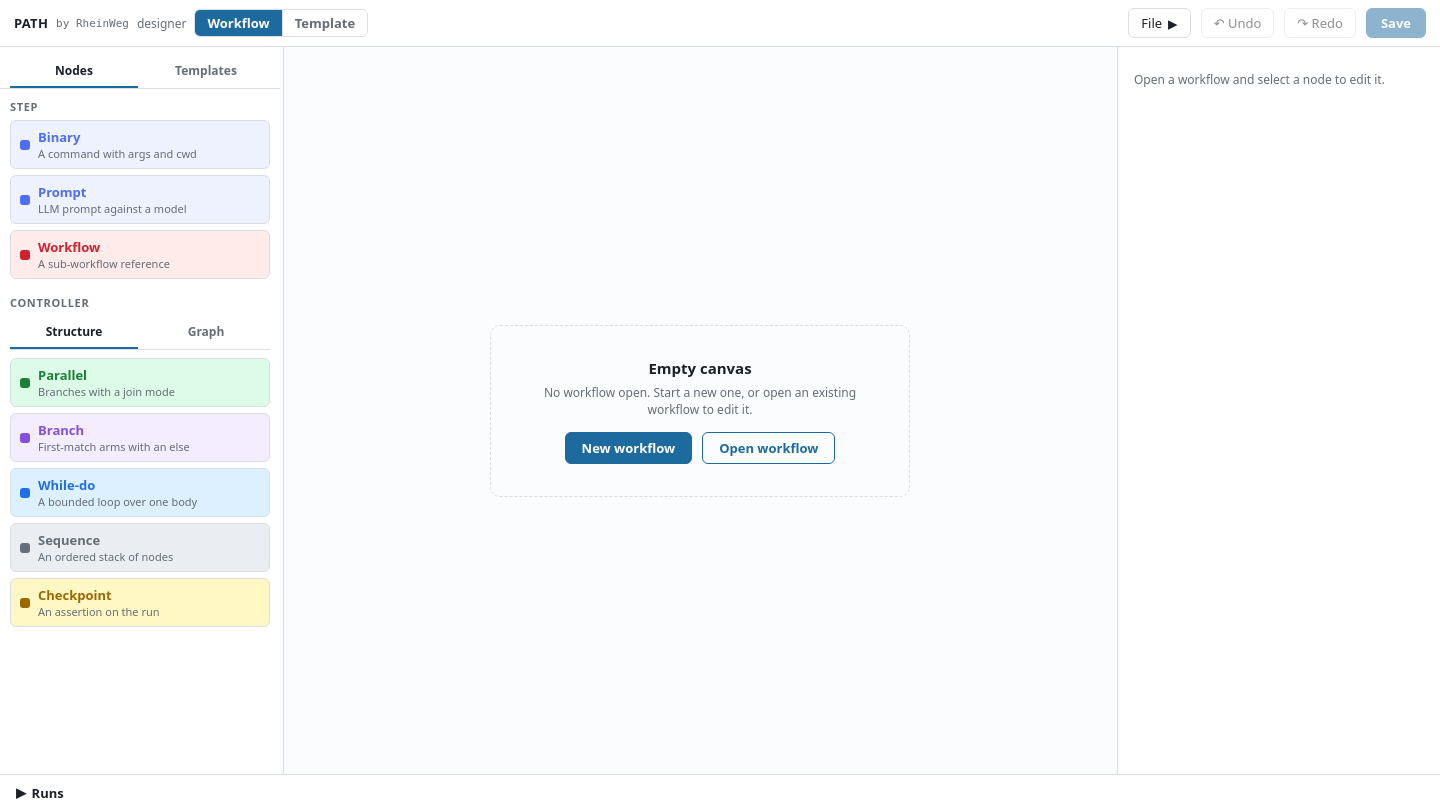
Test: first-save placement dialog › prefills the name, enforces the .workflow.json suffix, and confines the directory to the authored roots
Click the button "New workflow" at (628, 448), box [565,432,692,464]
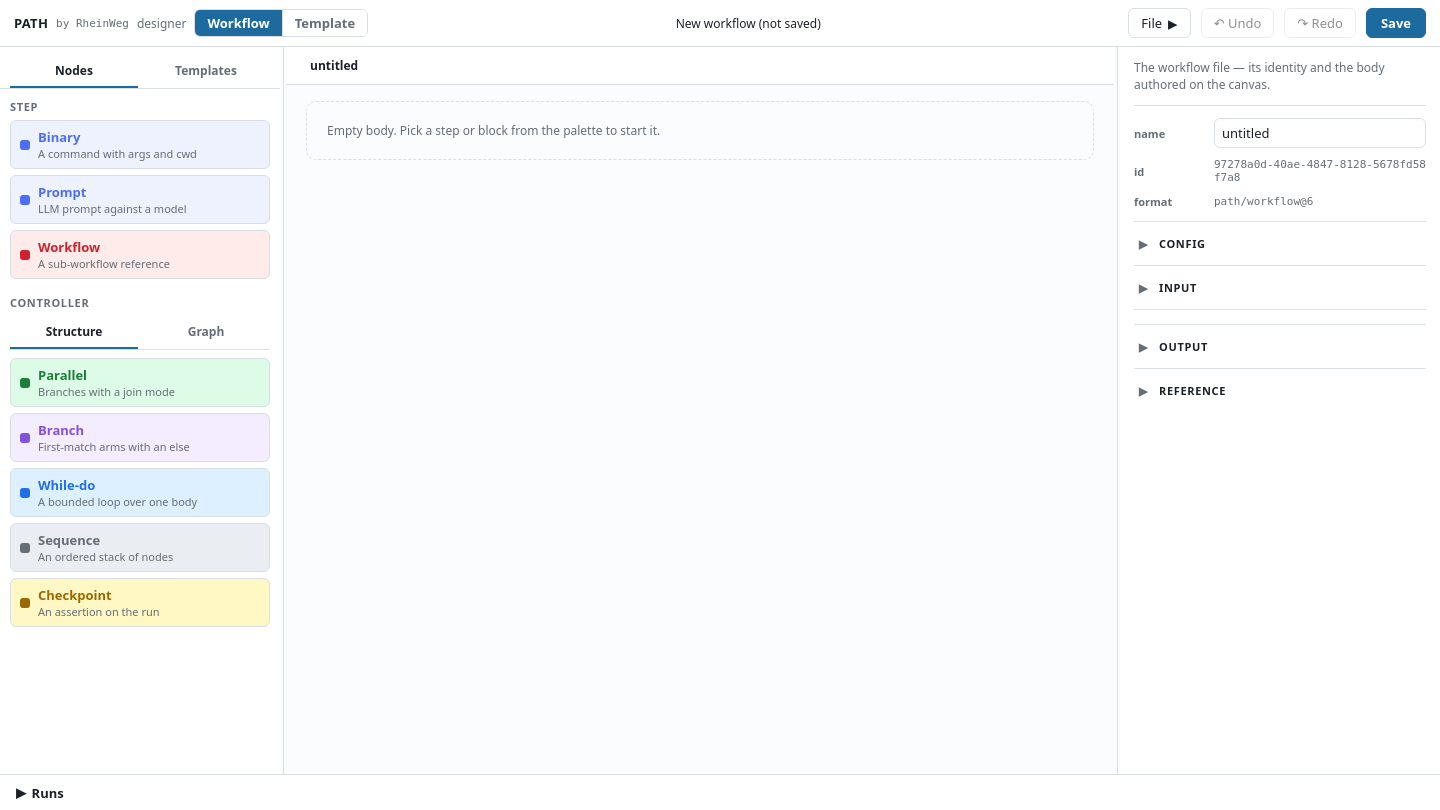
Click the text "Prompt" at (62, 192), box [38,183,86,201]
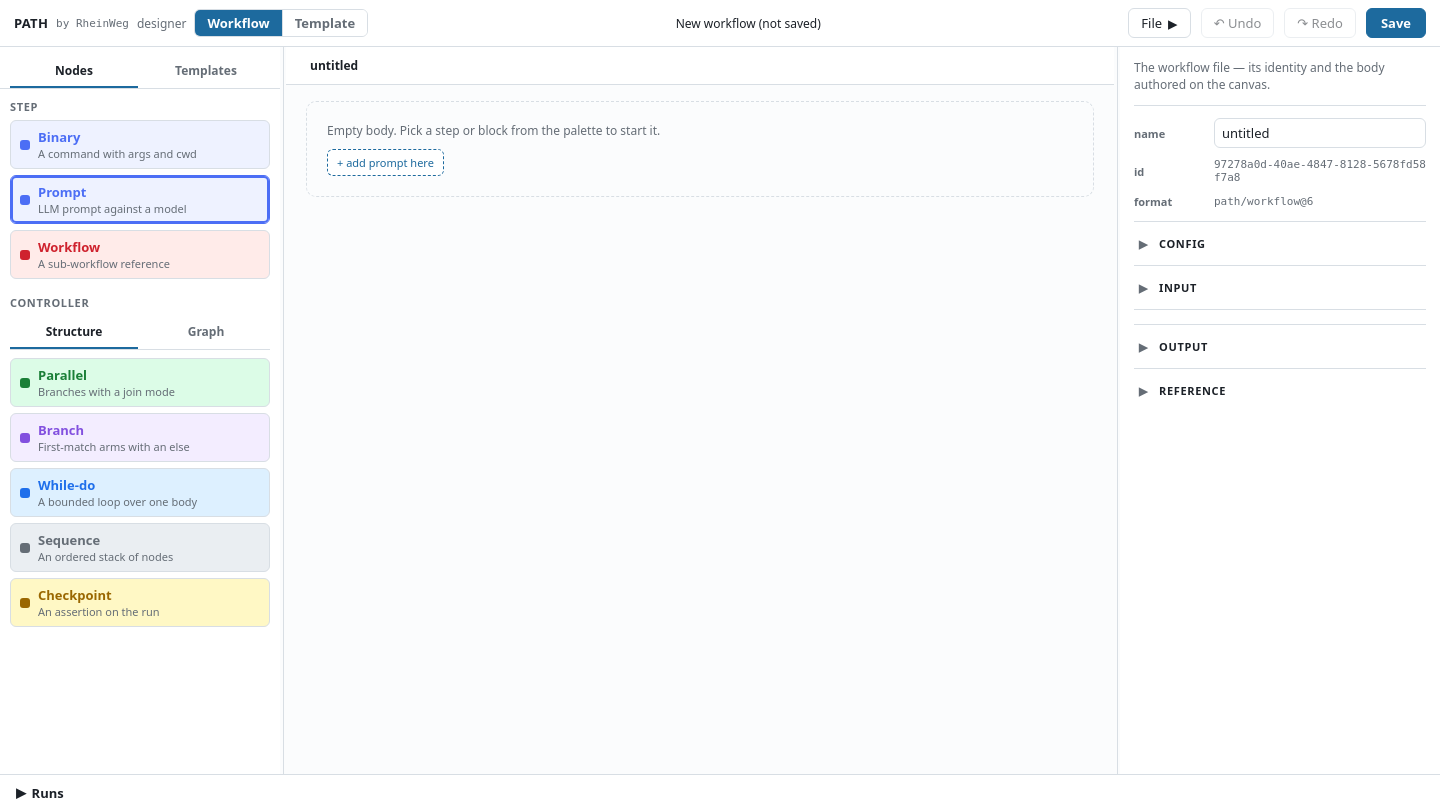
Click the button "+ add prompt here" at (385, 162), box [327,149,444,176]
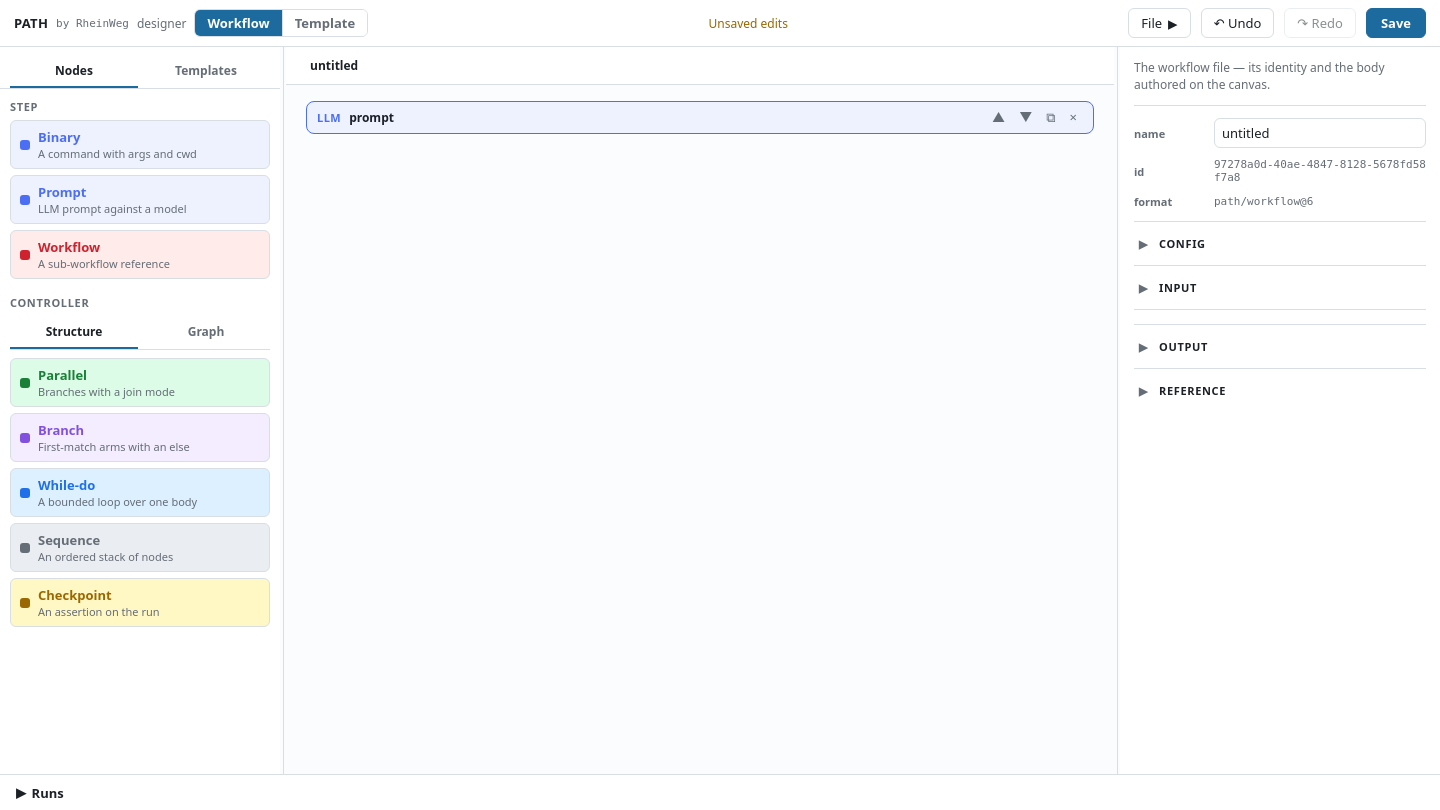
Click the button "Save" at (1396, 23), box [1366,8,1426,38]
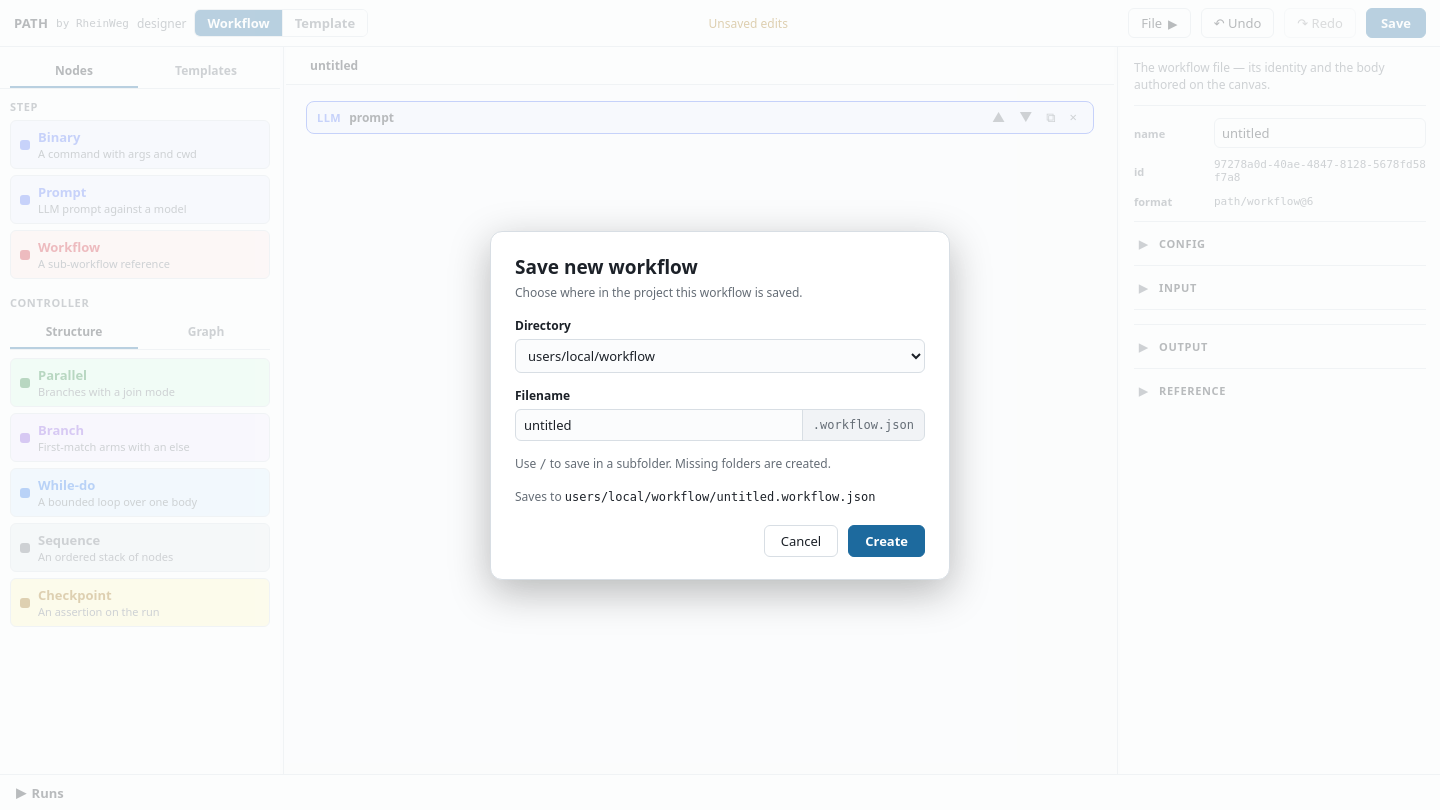
Expected: the field labelled "Filename" holds "untitled"
Expected: the text ".workflow.json" is shown, [802,410,924,440]
Expected: the dropdown labelled "Directory" shows "users/local/workflow", [515,338,925,372]
Replace the text in the field labelled "Filename" with "my-flow" at (659, 424), box [516,410,802,440]
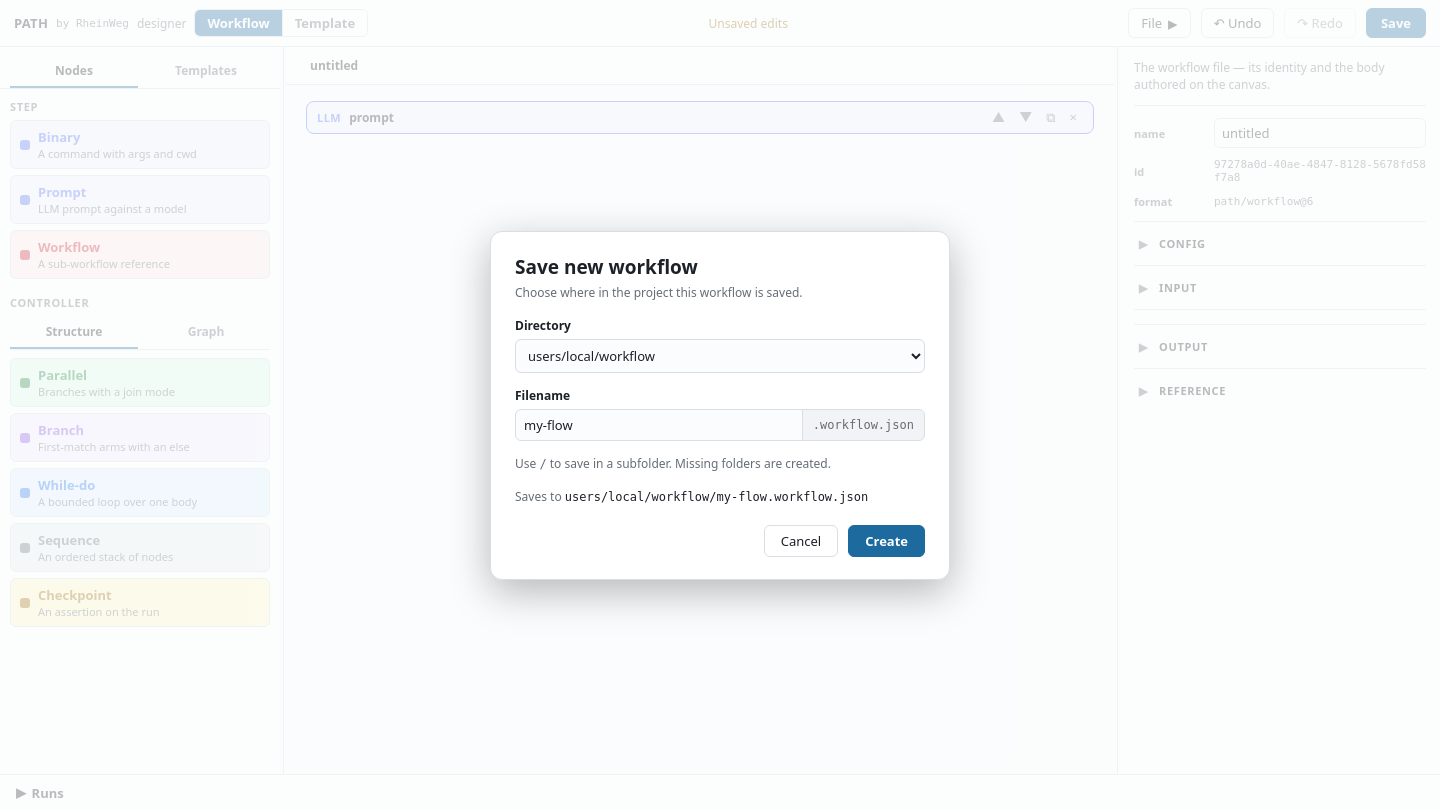
Expected: the element with test id "new-file-target" shows "my-flow.workflow.json", [565,490,868,504]
